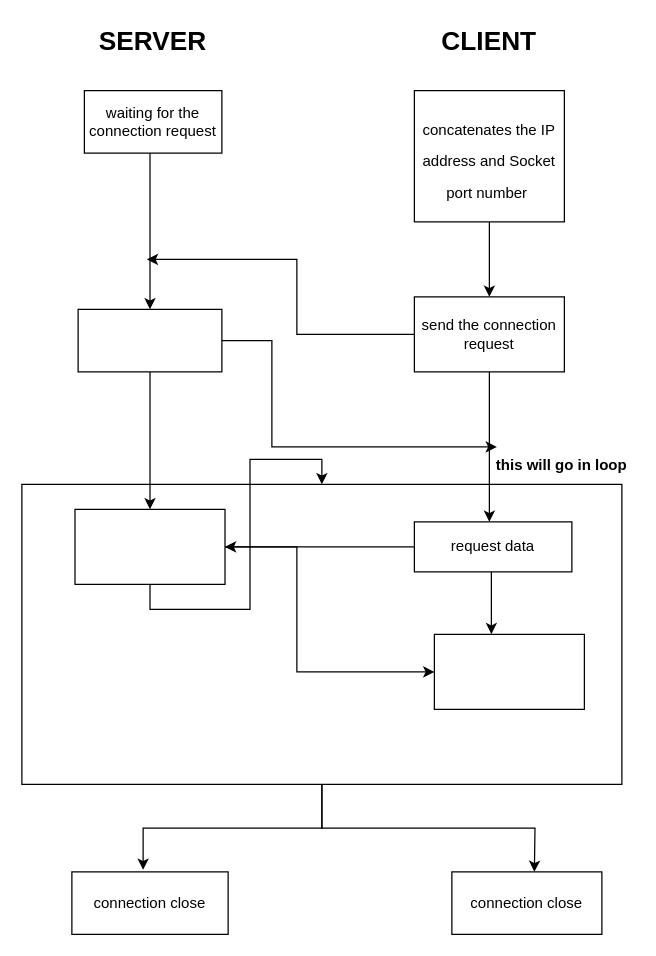
Some shapes in this 656 by 956 pixel diagram are drawn without their labels. The shapes that lost their labels are listed below. From the top down, each one's box as (x1, y1, x2, y2) in pixels, then its label:
(77, 308, 222, 372): if port number matches then accepts the request
(74, 508, 225, 584): response with the requested data if successful
(433, 633, 584, 709): receive the data
